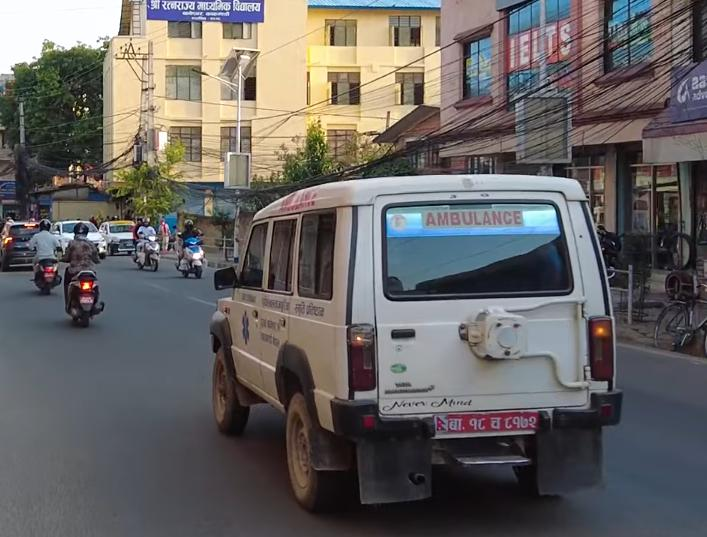ambulance: (198, 171, 623, 521)
car: (0, 218, 59, 272)
scooter: (58, 251, 106, 327), (174, 233, 207, 278), (131, 231, 164, 271)
taxi: (99, 216, 143, 255)
